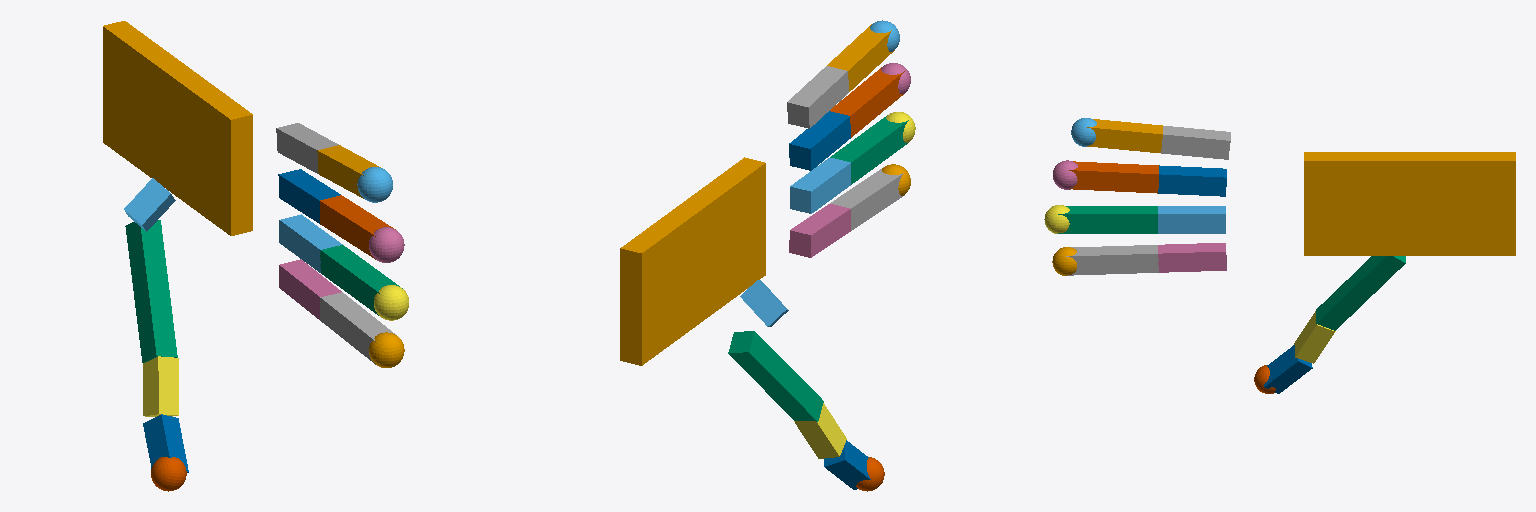
The robot description file, URDF, robot "h1_box":
<?xml version="1.0" ?>
<robot name="h1_box">
  <link name="R_hand_base_link">
    <inertial>
      <origin xyz="0 0 0" rpy="0 0 0"/>
      <mass value="0.14143"/>
      <inertia ixx="1.473229e-04" ixy="0.000000e+00" ixz="0.000000e+00" iyy="3.064317e-05" iyz="0.000000e+00" izz="1.190369e-04"/>
    </inertial>
    <visual>
      <origin xyz="-0.005000 -0.050000 0.000000" rpy="0.000000 0.000000 0.000000"/>
      <geometry>
        <box size="0.01 0.1 0.05"/>
      </geometry>
    </visual>
    <collision>
      <origin xyz="-0.005000 -0.050000 0.000000" rpy="0.000000 0.000000 0.000000"/>
      <geometry>
        <box size="0.01 0.1 0.05"/>
      </geometry>
    </collision>
  </link>
  <link name="R_thumb_proximal_base">
    <inertial>
      <origin xyz="0 0 0" rpy="0 0 0"/>
      <mass value="0.0018869"/>
      <inertia ixx="6.003683e-08" ixy="0.000000e+00" ixz="0.000000e+00" iyy="3.144833e-08" iyz="0.000000e+00" izz="6.003683e-08"/>
    </inertial>
    <visual>
      <origin xyz="0.000100 0.010900 -0.001400" rpy="0.000000 0.583600 3.821700"/>
      <geometry>
        <box size="0.01 0.016787272024066328 0.01"/>
      </geometry>
    </visual>
    <collision>
      <origin xyz="0.000100 0.010900 -0.001400" rpy="0.000000 0.583600 3.821700"/>
      <geometry>
        <box size="0.01 0.016787272024066328 0.01"/>
      </geometry>
    </collision>
  </link>
  <link name="R_thumb_proximal">
    <inertial>
      <origin xyz="0 0 0" rpy="0 0 0"/>
      <mass value="0.0066075"/>
      <inertia ixx="1.782216e-06" ixy="0.000000e+00" ixz="0.000000e+00" iyy="1.101250e-07" iyz="0.000000e+00" izz="1.782216e-06"/>
    </inertial>
    <visual>
      <origin xyz="0.025200 0.013300 -0.004900" rpy="0.000000 0.014300 2.235700"/>
      <geometry>
        <box size="0.01 0.056006380966814845 0.01"/>
      </geometry>
    </visual>
    <collision>
      <origin xyz="0.025200 0.013300 -0.004900" rpy="0.000000 0.014300 2.235700"/>
      <geometry>
        <box size="0.01 0.056006380966814845 0.01"/>
      </geometry>
    </collision>
  </link>
  <link name="R_thumb_intermediate">
    <inertial>
      <origin xyz="0 0 0" rpy="0 0 0"/>
      <mass value="0.0037847"/>
      <inertia ixx="1.938289e-07" ixy="0.000000e+00" ixz="0.000000e+00" iyy="6.307833e-08" iyz="0.000000e+00" izz="1.938289e-07"/>
    </inertial>
    <visual>
      <origin xyz="0.012500 0.000400 -0.004700" rpy="0.000000 0.052900 2.035700"/>
      <geometry>
        <box size="0.01 0.02268404373122217 0.01"/>
      </geometry>
    </visual>
    <collision>
      <origin xyz="0.012500 0.000400 -0.004700" rpy="0.000000 0.052900 2.035700"/>
      <geometry>
        <box size="0.01 0.02268404373122217 0.01"/>
      </geometry>
    </collision>
  </link>
  <link name="R_thumb_distal">
    <inertial>
      <origin xyz="0 0 0" rpy="0 0 0"/>
      <mass value="0.0033441"/>
      <inertia ixx="1.762956e-07" ixy="0.000000e+00" ixz="0.000000e+00" iyy="5.573500e-08" iyz="0.000000e+00" izz="1.762956e-07"/>
    </inertial>
    <visual>
      <origin xyz="0.012500 0.003700 -0.003500" rpy="0.000000 0.262600 2.346600"/>
      <geometry>
        <box size="0.01 0.023078574950895474 0.01"/>
      </geometry>
    </visual>
    <collision>
      <origin xyz="0.012500 0.003700 -0.003500" rpy="0.000000 0.262600 2.346600"/>
      <geometry>
        <box size="0.01 0.023078574950895474 0.01"/>
      </geometry>
    </collision>
  </link>
  <link name="R_thumb_tip">
    <visual>
      <origin xyz="0 0 0" rpy="0 0 0"/>
      <geometry>
        <sphere radius="0.007"/>
      </geometry>
    </visual>
  </link>
  <link name="R_index_proximal">
    <inertial>
      <origin xyz="0 0 0" rpy="0 0 0"/>
      <mass value="0.0042403"/>
      <inertia ixx="4.005303e-07" ixy="0.000000e+00" ixz="0.000000e+00" iyy="7.067167e-08" iyz="0.000000e+00" izz="4.005303e-07"/>
    </inertial>
    <visual>
      <origin xyz="-0.005000 0.016100 -0.005000" rpy="0.000000 0.000000 0.000000"/>
      <geometry>
        <box size="0.01 0.03214803454972014 0.01"/>
      </geometry>
    </visual>
    <collision>
      <origin xyz="-0.005000 0.016100 -0.005000" rpy="0.000000 0.000000 0.000000"/>
      <geometry>
        <box size="0.01 0.03214803454972014 0.01"/>
      </geometry>
    </collision>
  </link>
  <link name="R_index_intermediate">
    <inertial>
      <origin xyz="0 0 0" rpy="0 0 0"/>
      <mass value="0.0045683"/>
      <inertia ixx="7.682803e-07" ixy="0.000000e+00" ixz="0.000000e+00" iyy="7.613833e-08" iyz="0.000000e+00" izz="7.682803e-07"/>
    </inertial>
    <visual>
      <origin xyz="-0.005000 0.021900 -0.005000" rpy="0.000000 0.000000 0.000000"/>
      <geometry>
        <box size="0.01 0.04379631116135011 0.01"/>
      </geometry>
    </visual>
    <collision>
      <origin xyz="-0.005000 0.021900 -0.005000" rpy="0.000000 0.000000 0.000000"/>
      <geometry>
        <box size="0.01 0.04379631116135011 0.01"/>
      </geometry>
    </collision>
  </link>
  <link name="R_index_tip">
    <visual>
      <origin xyz="0 0 0" rpy="0 0 0"/>
      <geometry>
        <sphere radius="0.007"/>
      </geometry>
    </visual>
  </link>
  <link name="R_middle_proximal">
    <inertial>
      <origin xyz="0 0 0" rpy="0 0 0"/>
      <mass value="0.0042403"/>
      <inertia ixx="4.005303e-07" ixy="0.000000e+00" ixz="0.000000e+00" iyy="7.067167e-08" iyz="0.000000e+00" izz="4.005303e-07"/>
    </inertial>
    <visual>
      <origin xyz="-0.005000 0.016100 -0.005000" rpy="0.000000 0.000000 0.000000"/>
      <geometry>
        <box size="0.01 0.03214803454972014 0.01"/>
      </geometry>
    </visual>
    <collision>
      <origin xyz="-0.005000 0.016100 -0.005000" rpy="0.000000 0.000000 0.000000"/>
      <geometry>
        <box size="0.01 0.03214803454972014 0.01"/>
      </geometry>
    </collision>
  </link>
  <link name="R_middle_intermediate">
    <inertial>
      <origin xyz="0 0 0" rpy="0 0 0"/>
      <mass value="0.0050396"/>
      <inertia ixx="9.722444e-07" ixy="0.000000e+00" ixz="0.000000e+00" iyy="8.399333e-08" iyz="0.000000e+00" izz="9.722444e-07"/>
    </inertial>
    <visual>
      <origin xyz="-0.005000 0.023500 -0.005000" rpy="0.000000 0.000000 0.000000"/>
      <geometry>
        <box size="0.01 0.04706433173139187 0.01"/>
      </geometry>
    </visual>
    <collision>
      <origin xyz="-0.005000 0.023500 -0.005000" rpy="0.000000 0.000000 0.000000"/>
      <geometry>
        <box size="0.01 0.04706433173139187 0.01"/>
      </geometry>
    </collision>
  </link>
  <link name="R_middle_tip">
    <visual>
      <origin xyz="0 0 0" rpy="0 0 0"/>
      <geometry>
        <sphere radius="0.007"/>
      </geometry>
    </visual>
  </link>
  <link name="R_ring_proximal">
    <inertial>
      <origin xyz="0 0 0" rpy="0 0 0"/>
      <mass value="0.0042403"/>
      <inertia ixx="4.005303e-07" ixy="0.000000e+00" ixz="0.000000e+00" iyy="7.067167e-08" iyz="0.000000e+00" izz="4.005303e-07"/>
    </inertial>
    <visual>
      <origin xyz="-0.005000 0.016100 -0.005000" rpy="0.000000 0.000000 0.000000"/>
      <geometry>
        <box size="0.01 0.03214803454972014 0.01"/>
      </geometry>
    </visual>
    <collision>
      <origin xyz="-0.005000 0.016100 -0.005000" rpy="0.000000 0.000000 0.000000"/>
      <geometry>
        <box size="0.01 0.03214803454972014 0.01"/>
      </geometry>
    </collision>
  </link>
  <link name="R_ring_intermediate">
    <inertial>
      <origin xyz="0 0 0" rpy="0 0 0"/>
      <mass value="0.0045683"/>
      <inertia ixx="7.682811e-07" ixy="0.000000e+00" ixz="0.000000e+00" iyy="7.613833e-08" iyz="0.000000e+00" izz="7.682811e-07"/>
    </inertial>
    <visual>
      <origin xyz="-0.005000 0.021900 -0.005000" rpy="0.000000 0.000000 0.000000"/>
      <geometry>
        <box size="0.01 0.04379633523392682 0.01"/>
      </geometry>
    </visual>
    <collision>
      <origin xyz="-0.005000 0.021900 -0.005000" rpy="0.000000 0.000000 0.000000"/>
      <geometry>
        <box size="0.01 0.04379633523392682 0.01"/>
      </geometry>
    </collision>
  </link>
  <link name="R_ring_tip">
    <visual>
      <origin xyz="0 0 0" rpy="0 0 0"/>
      <geometry>
        <sphere radius="0.007"/>
      </geometry>
    </visual>
  </link>
  <link name="R_pinky_proximal">
    <inertial>
      <origin xyz="0 0 0" rpy="0 0 0"/>
      <mass value="0.0042403"/>
      <inertia ixx="4.005303e-07" ixy="0.000000e+00" ixz="0.000000e+00" iyy="7.067167e-08" iyz="0.000000e+00" izz="4.005303e-07"/>
    </inertial>
    <visual>
      <origin xyz="-0.005000 0.016100 -0.005000" rpy="0.000000 0.000000 0.000000"/>
      <geometry>
        <box size="0.01 0.03214803454972014 0.01"/>
      </geometry>
    </visual>
    <collision>
      <origin xyz="-0.005000 0.016100 -0.005000" rpy="0.000000 0.000000 0.000000"/>
      <geometry>
        <box size="0.01 0.03214803454972014 0.01"/>
      </geometry>
    </collision>
  </link>
  <link name="R_pinky_intermediate">
    <inertial>
      <origin xyz="0 0 0" rpy="0 0 0"/>
      <mass value="0.0035996"/>
      <inertia ixx="4.343419e-07" ixy="0.000000e+00" ixz="0.000000e+00" iyy="5.999333e-08" iyz="0.000000e+00" izz="4.343419e-07"/>
    </inertial>
    <visual>
      <origin xyz="-0.005000 0.018400 -0.005000" rpy="0.000000 0.000000 0.000000"/>
      <geometry>
        <box size="0.01 0.03671467408620836 0.01"/>
      </geometry>
    </visual>
    <collision>
      <origin xyz="-0.005000 0.018400 -0.005000" rpy="0.000000 0.000000 0.000000"/>
      <geometry>
        <box size="0.01 0.03671467408620836 0.01"/>
      </geometry>
    </collision>
  </link>
  <link name="R_pinky_tip">
    <visual>
      <origin xyz="0 0 0" rpy="0 0 0"/>
      <geometry>
        <sphere radius="0.007"/>
      </geometry>
    </visual>
  </link>
  <joint name="R_thumb_proximal_yaw" type="revolute">
    <origin xyz="-0.016960 -0.069100 -0.020450" rpy="1.570800 -1.570800 0.000000"/>
    <parent link="R_hand_base_link"/>
    <child link="R_thumb_proximal_base"/>
    <axis xyz="0 0 -1"/>
    <limit lower="-0.1" upper="1.3" effort="1" velocity="0.5"/>
  </joint>
  <joint name="R_thumb_proximal_pitch" type="revolute">
    <origin xyz="-0.008810 0.010892 -0.009250" rpy="1.570800 0.000000 2.858700"/>
    <parent link="R_thumb_proximal_base"/>
    <child link="R_thumb_proximal"/>
    <axis xyz="0 0 1"/>
    <limit lower="0.0" upper="0.5" effort="1" velocity="0.5"/>
  </joint>
  <joint name="R_thumb_intermediate" type="revolute">
    <origin xyz="0.044070 0.034553 -0.000800" rpy="0.000000 0.000000 0.000000"/>
    <parent link="R_thumb_proximal"/>
    <child link="R_thumb_intermediate"/>
    <axis xyz="0 0 1"/>
    <limit lower="0" upper="0.8" effort="1" velocity="0.5"/>
    <mimic joint="R_thumb_proximal_pitch" multiplier="1.6" offset="0"/>
  </joint>
  <joint name="R_thumb_distal" type="revolute">
    <origin xyz="0.020248 0.010156 -0.001200" rpy="0.000000 0.000000 0.000000"/>
    <parent link="R_thumb_intermediate"/>
    <child link="R_thumb_distal"/>
    <axis xyz="0 0 1"/>
    <limit lower="0" upper="1.2" effort="1" velocity="0.5"/>
    <mimic joint="R_thumb_proximal_pitch" multiplier="2.4" offset="0"/>
  </joint>
  <joint name="R_thumb_tip_joint" type="fixed">
    <parent link="R_thumb_distal"/>
    <child link="R_thumb_tip"/>
    <origin xyz="0.020000 0.012000 -0.002000" rpy="0.000000 0.000000 0.000000"/>
  </joint>
  <joint name="R_index_proximal" type="revolute">
    <origin xyz="0.000285 -0.136530 -0.032268" rpy="-3.106700 0.000000 0.000000"/>
    <parent link="R_hand_base_link"/>
    <child link="R_index_proximal"/>
    <axis xyz="0 0 1"/>
    <limit lower="0" upper="1.7" effort="1" velocity="0.5"/>
  </joint>
  <joint name="R_index_intermediate" type="revolute">
    <origin xyz="0.000000 0.032026 0.000000" rpy="0.000000 0.000000 0.000000"/>
    <parent link="R_index_proximal"/>
    <child link="R_index_intermediate"/>
    <axis xyz="0 0 1"/>
    <limit lower="0" upper="1.7" effort="1" velocity="0.5"/>
    <mimic joint="R_index_proximal" multiplier="1" offset="0"/>
  </joint>
  <joint name="R_index_tip_joint" type="fixed">
    <parent link="R_index_intermediate"/>
    <child link="R_index_tip"/>
    <origin xyz="-0.005000 0.043313 -0.005000" rpy="0.000000 0.000000 0.000000"/>
  </joint>
  <joint name="R_middle_proximal" type="revolute">
    <origin xyz="0.000285 -0.137100 -0.012950" rpy="-3.141600 0.000000 0.000000"/>
    <parent link="R_hand_base_link"/>
    <child link="R_middle_proximal"/>
    <axis xyz="0 0 1"/>
    <limit lower="0" upper="1.7" effort="1" velocity="0.5"/>
  </joint>
  <joint name="R_middle_intermediate" type="revolute">
    <origin xyz="0.000000 0.032041 0.000000" rpy="0.000000 0.000000 0.000000"/>
    <parent link="R_middle_proximal"/>
    <child link="R_middle_intermediate"/>
    <axis xyz="0 0 1"/>
    <limit lower="0" upper="1.7" effort="1" velocity="0.5"/>
    <mimic joint="R_middle_proximal" multiplier="1" offset="0"/>
  </joint>
  <joint name="R_middle_tip_joint" type="fixed">
    <parent link="R_middle_intermediate"/>
    <child link="R_middle_tip"/>
    <origin xyz="-0.005000 0.046604 -0.005000" rpy="0.000000 0.000000 0.000000"/>
  </joint>
  <joint name="R_ring_proximal" type="revolute">
    <origin xyz="0.000285 -0.136910 0.006287" rpy="3.089200 0.000000 0.000000"/>
    <parent link="R_hand_base_link"/>
    <child link="R_ring_proximal"/>
    <axis xyz="0 0 1"/>
    <limit lower="0" upper="1.7" effort="1" velocity="0.5"/>
  </joint>
  <joint name="R_ring_intermediate" type="revolute">
    <origin xyz="0.000000 0.032041 0.000000" rpy="0.000000 0.000000 0.000000"/>
    <parent link="R_ring_proximal"/>
    <child link="R_ring_intermediate"/>
    <axis xyz="0 0 1"/>
    <limit lower="0" upper="1.7" effort="1" velocity="0.5"/>
    <mimic joint="R_ring_proximal" multiplier="1" offset="0"/>
  </joint>
  <joint name="R_ring_tip_joint" type="fixed">
    <parent link="R_ring_intermediate"/>
    <child link="R_ring_tip"/>
    <origin xyz="-0.005000 0.043354 -0.005000" rpy="0.000000 0.000000 0.000000"/>
  </joint>
  <joint name="R_pinky_proximal" type="revolute">
    <origin xyz="0.000285 -0.135710 0.025488" rpy="3.036900 0.000000 0.000000"/>
    <parent link="R_hand_base_link"/>
    <child link="R_pinky_proximal"/>
    <axis xyz="0 0 1"/>
    <limit lower="0" upper="1.7" effort="1" velocity="0.5"/>
  </joint>
  <joint name="R_pinky_intermediate" type="revolute">
    <origin xyz="0.000000 0.032041 0.000000" rpy="0.000000 0.000000 0.000000"/>
    <parent link="R_pinky_proximal"/>
    <child link="R_pinky_intermediate"/>
    <axis xyz="0 0 1"/>
    <limit lower="0" upper="1.7" effort="1" velocity="0.5"/>
    <mimic joint="R_pinky_proximal" multiplier="1" offset="0"/>
  </joint>
  <joint name="R_pinky_tip_joint" type="fixed">
    <parent link="R_pinky_intermediate"/>
    <child link="R_pinky_tip"/>
    <origin xyz="-0.005000 0.036278 -0.005000" rpy="0.000000 0.000000 0.000000"/>
  </joint>
</robot>

--- What the picture shows (computed from the rendered views, not written in the file) ---
The picture shows the robot from 3 angles, left to right: view 1: azimuth 30°, elevation 25°; view 2: azimuth 150°, elevation 25°; view 3: azimuth 270°, elevation 25°; orthographic projection.
Model h1_box with 18 links and 17 joints (12 revolute, 5 fixed), rooted at R_hand_base_link, posed all joints at 0.
Visible links, largest first — view 1: R_hand_base_link, R_thumb_proximal, R_middle_intermediate, R_index_intermediate, R_ring_intermediate, R_thumb_intermediate, R_index_proximal, R_middle_proximal, R_ring_proximal, R_pinky_proximal, R_pinky_intermediate, R_thumb_distal (+6 smaller); view 2: R_hand_base_link, R_thumb_proximal, R_pinky_proximal, R_middle_intermediate, R_ring_proximal, R_ring_intermediate, R_middle_proximal, R_index_proximal, R_index_intermediate, R_pinky_intermediate, R_thumb_intermediate, R_thumb_distal (+2 smaller); view 3: R_hand_base_link, R_thumb_proximal, R_middle_intermediate, R_index_intermediate, R_ring_intermediate, R_pinky_intermediate, R_index_proximal, R_pinky_proximal, R_ring_proximal, R_middle_proximal, R_thumb_distal, R_thumb_intermediate (+4 smaller).
Boxes of the visible links, x1=… form: R_hand_base_link: x1=103, y1=21, x2=252, y2=235; R_thumb_proximal: x1=125, y1=220, x2=177, y2=362; R_middle_intermediate: x1=320, y1=245, x2=402, y2=315; R_index_intermediate: x1=320, y1=292, x2=395, y2=364; R_ring_intermediate: x1=320, y1=195, x2=395, y2=259; R_thumb_intermediate: x1=143, y1=356, x2=178, y2=416; R_index_proximal: x1=279, y1=259, x2=341, y2=319; R_middle_proximal: x1=279, y1=214, x2=342, y2=272; R_ring_proximal: x1=278, y1=169, x2=340, y2=223; R_pinky_proximal: x1=276, y1=123, x2=338, y2=173; R_pinky_intermediate: x1=317, y1=145, x2=380, y2=198; R_thumb_distal: x1=143, y1=414, x2=188, y2=472; R_hand_base_link: x1=620, y1=157, x2=765, y2=365; R_thumb_proximal: x1=728, y1=331, x2=823, y2=421; R_pinky_proximal: x1=787, y1=66, x2=848, y2=128; R_middle_intermediate: x1=830, y1=116, x2=908, y2=184; R_ring_proximal: x1=789, y1=111, x2=850, y2=170; R_ring_intermediate: x1=830, y1=67, x2=904, y2=137; R_middle_proximal: x1=790, y1=158, x2=850, y2=213; R_index_proximal: x1=789, y1=204, x2=850, y2=257; R_index_intermediate: x1=830, y1=167, x2=904, y2=230; R_pinky_intermediate: x1=827, y1=24, x2=894, y2=91; R_thumb_intermediate: x1=794, y1=403, x2=846, y2=458; R_thumb_distal: x1=824, y1=440, x2=870, y2=489; R_hand_base_link: x1=1304, y1=152, x2=1515, y2=255; R_thumb_proximal: x1=1316, y1=256, x2=1405, y2=330; R_middle_intermediate: x1=1058, y1=206, x2=1157, y2=233; R_index_intermediate: x1=1066, y1=245, x2=1158, y2=275; R_ring_intermediate: x1=1069, y1=161, x2=1158, y2=193; R_pinky_intermediate: x1=1087, y1=119, x2=1162, y2=152; R_index_proximal: x1=1158, y1=243, x2=1226, y2=272; R_pinky_proximal: x1=1161, y1=126, x2=1230, y2=159; R_ring_proximal: x1=1158, y1=165, x2=1226, y2=196; R_middle_proximal: x1=1158, y1=206, x2=1225, y2=233; R_thumb_distal: x1=1264, y1=345, x2=1312, y2=393; R_thumb_intermediate: x1=1294, y1=311, x2=1335, y2=363.
Bounding box of the posed robot: 0.0568 × 0.2227 × 0.1629 m (x, y, z).
Geometry: primitives only (box / cylinder / sphere), no mesh files.